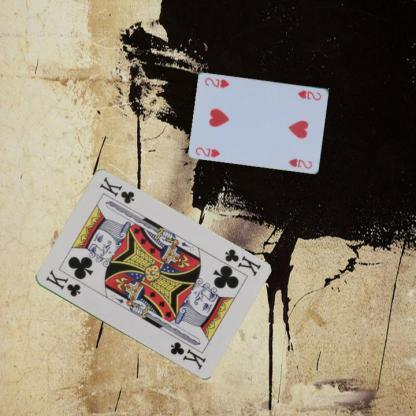2h: (192, 144, 222, 158), (296, 87, 323, 102)
Kc: (42, 267, 82, 299), (222, 246, 262, 278)
